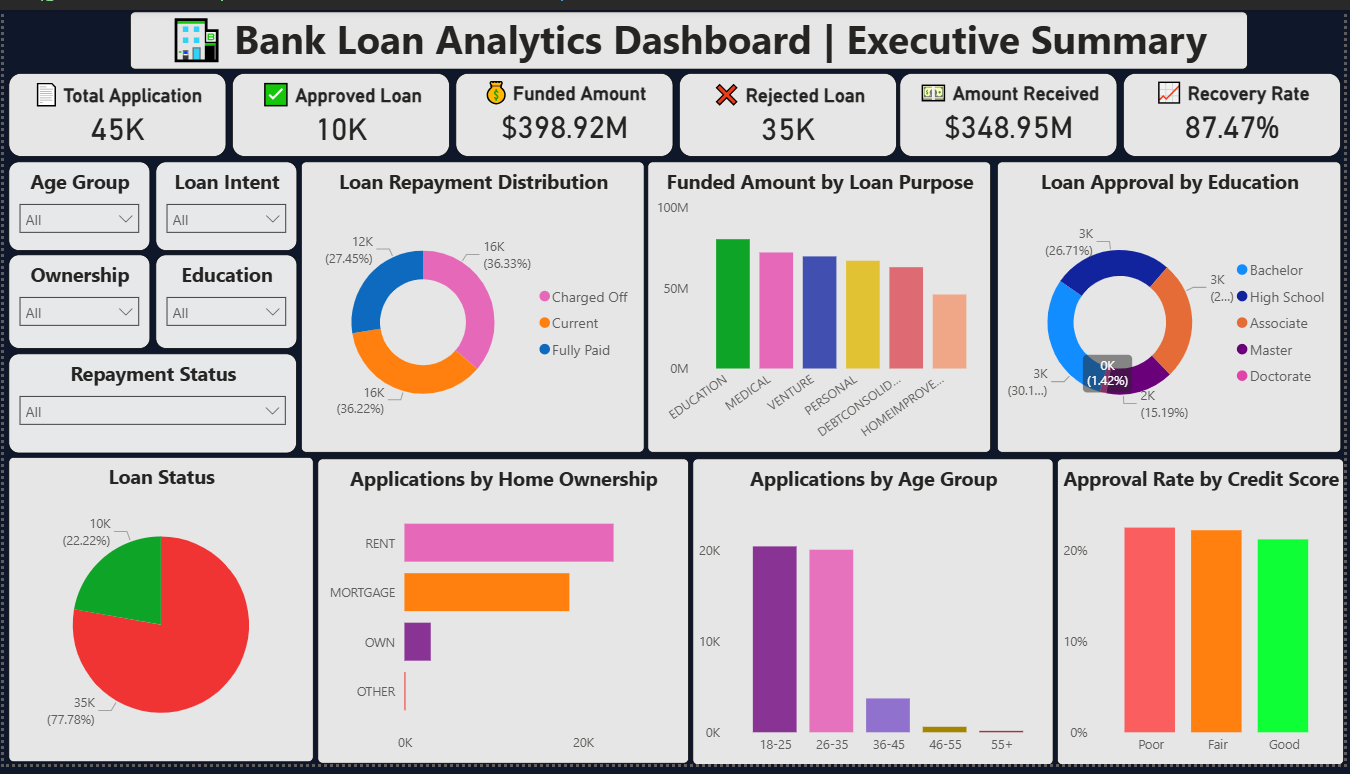

Layout of this report page (visuals, bound fields, positions):
{"tool":"powerbi","page":{"name":"Dashboard","canvas":[1280,720],"ordinal":0},"visuals":[{"type":"textbox","box":[120,1,1067,55.3],"z":0},{"type":"card","title":"📄 Total Application","fields":{"Values":["loan_data_enhanced.Total Applications"]},"box":[5,60,208.2,80],"z":1000},{"type":"card","title":"✅ Approved Loan","fields":{"Values":["loan_data_enhanced.Approved Loans"]},"box":[218,60,208.2,80],"z":2000},{"type":"card","title":"❌ Rejected Loan","fields":{"Values":["loan_data_enhanced.Rejected Loans"]},"box":[644,60,208.2,80],"z":3000},{"type":"card","title":"💰 Funded Amount","fields":{"Values":["loan_data_enhanced.Total Funded Amount"]},"box":[431,60,208,79.7],"z":4000},{"type":"card","title":"💵 Amount Received","fields":{"Values":["loan_data_enhanced.Total Amount Received"]},"box":[855,60,208.2,80],"z":5000},{"type":"card","title":"📈 Recovery Rate","fields":{"Values":["loan_data_enhanced.Recovery Rate"]},"box":[1069,60,208.2,80],"z":6000},{"type":"donutChart","title":"Loan Repayment Distribution","fields":{"Category":["loan_data_enhanced.loan_repayment_status"],"Y":["loan_data_enhanced.Total Applications"]},"box":[283,145,328,278],"z":7000},{"type":"pieChart","title":"Loan Status","fields":{"Category":["loan_data_enhanced.Loan_Status_Name"],"Y":["CountNonNull(loan_data_enhanced.Loan_Status_Name)"]},"box":[4.9,427,291,291.2],"z":8000},{"type":"clusteredColumnChart","title":"Funded Amount by Loan Purpose","fields":{"Category":["loan_data_enhanced.loan_intent"],"Y":["loan_data_enhanced.Total Funded Amount"]},"box":[615,145,328,278],"z":9000},{"type":"donutChart","title":"Loan Approval by Education","fields":{"Category":["loan_data_enhanced.person_education"],"Y":["loan_data_enhanced.Approved Loans"]},"box":[948,145,328.6,278],"z":10000},{"type":"barChart","title":"Applications by Home Ownership","fields":{"Category":["loan_data_enhanced.person_home_ownership"],"Y":["loan_data_enhanced.Total Applications"]},"box":[299.3,427.8,354.6,291.2],"z":11000},{"type":"lineClusteredColumnComboChart","title":"Applications by Age Group","fields":{"Category":["loan_data_enhanced.Age Group"],"Y":["loan_data_enhanced.Total Applications"]},"box":[657,427.8,344.8,292.8],"z":12000},{"type":"clusteredColumnChart","title":"Approval Rate by Credit Score","fields":{"Category":["loan_data_enhanced.Credit Score Group"],"Y":["loan_data_enhanced.Approval Rate"]},"box":[1005,427.8,274,292.8],"z":14000},{"type":"slicer","title":"Loan Intent","fields":{"Values":["loan_data_enhanced.loan_intent"]},"box":[145,145,135,85],"z":16000},{"type":"slicer","title":"Education","fields":{"Values":["loan_data_enhanced.person_education"]},"box":[144,234,135,90],"z":17000},{"type":"slicer","title":"Ownership","fields":{"Values":["loan_data_enhanced.person_home_ownership"]},"box":[4.5,234,135,90],"z":18000},{"type":"slicer","title":"Repayment Status","fields":{"Values":["loan_data_enhanced.loan_repayment_status"]},"box":[4.5,328.6,275,95.4],"z":19000},{"type":"slicer","title":"Age Group","fields":{"Values":["loan_data_enhanced.Age Group"]},"box":[4,145,135,85],"z":20000}]}

Visuals, with their boxes in screenshot pixels (x1, y1, x2, y2), scaled from the page's 1280x720 canvas onto the 1350x774 screenshot:
textbox: [x1=127, y1=1, x2=1252, y2=61]
"📄 Total Application" card: [x1=5, y1=64, x2=225, y2=150]
"✅ Approved Loan" card: [x1=230, y1=64, x2=450, y2=150]
"❌ Rejected Loan" card: [x1=679, y1=64, x2=899, y2=150]
"💰 Funded Amount" card: [x1=455, y1=64, x2=674, y2=150]
"💵 Amount Received" card: [x1=902, y1=64, x2=1121, y2=150]
"📈 Recovery Rate" card: [x1=1127, y1=64, x2=1347, y2=150]
"Loan Repayment Distribution" donutChart: [x1=298, y1=156, x2=644, y2=455]
"Loan Status" pieChart: [x1=5, y1=459, x2=312, y2=772]
"Funded Amount by Loan Purpose" clusteredColumnChart: [x1=649, y1=156, x2=995, y2=455]
"Loan Approval by Education" donutChart: [x1=1000, y1=156, x2=1346, y2=455]
"Applications by Home Ownership" barChart: [x1=316, y1=460, x2=690, y2=773]
"Applications by Age Group" lineClusteredColumnComboChart: [x1=693, y1=460, x2=1057, y2=773]
"Approval Rate by Credit Score" clusteredColumnChart: [x1=1060, y1=460, x2=1349, y2=773]
"Loan Intent" slicer: [x1=153, y1=156, x2=295, y2=247]
"Education" slicer: [x1=152, y1=252, x2=294, y2=348]
"Ownership" slicer: [x1=5, y1=252, x2=147, y2=348]
"Repayment Status" slicer: [x1=5, y1=353, x2=295, y2=456]
"Age Group" slicer: [x1=4, y1=156, x2=147, y2=247]
